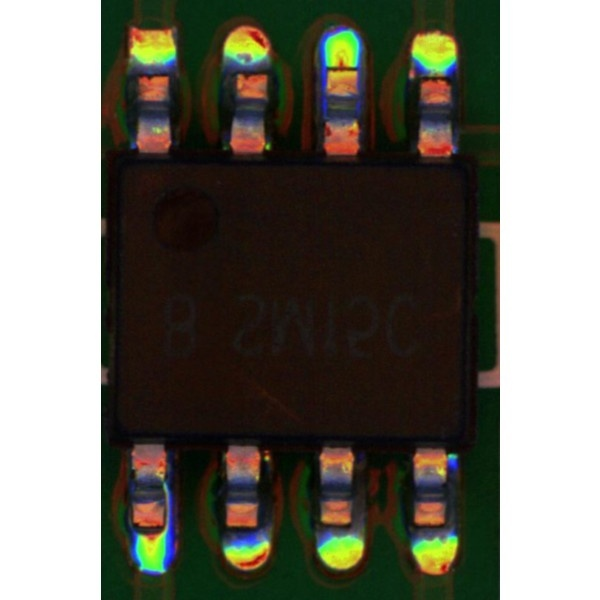Bad_podu: (138, 519, 165, 544), (329, 58, 357, 80)
Bad_qiaojiao: (165, 477, 173, 527)
